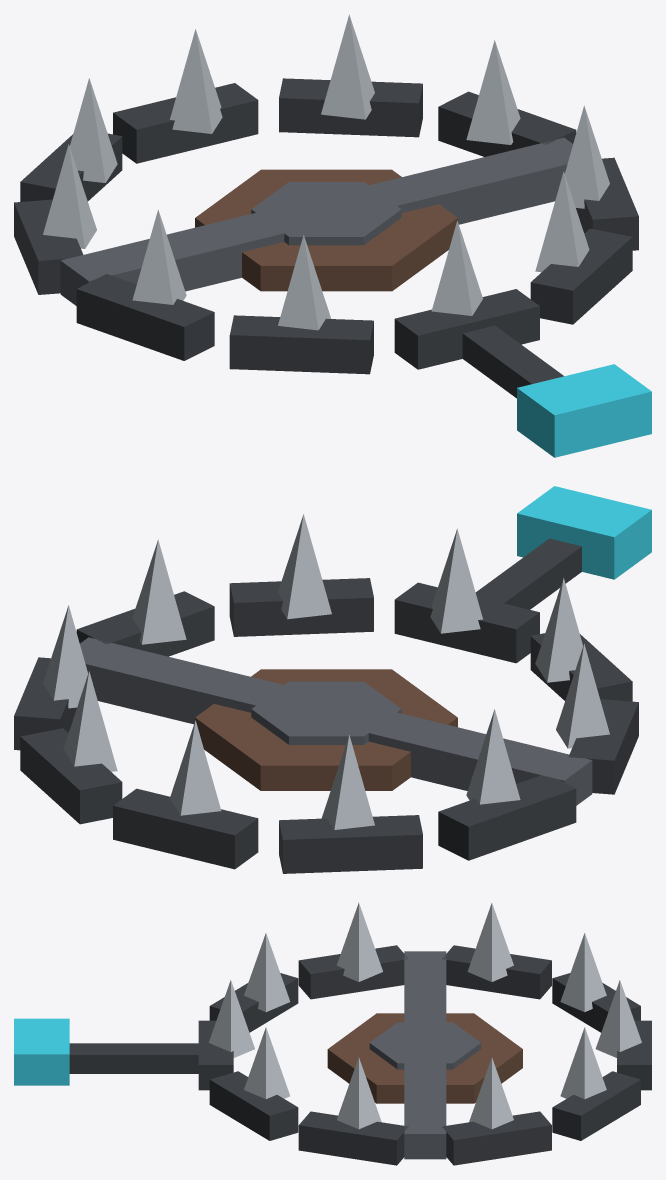
File: PR_Snare.fbx
3 renders of one model, top to bottom at view 1: azimuth 30°, elevation 25°; view 2: azimuth 150°, elevation 25°; view 3: azimuth 270°, elevation 25°, orthographic. The views are drawn at different scales.
Visible parts, largest first — view 1: PR_Snare_Mesh; view 2: PR_Snare_Mesh; view 3: PR_Snare_Mesh.
Part boxes in pixels (<box>): PR_Snare_Mesh: <box>14,14,651,457</box>; PR_Snare_Mesh: <box>14,486,651,873</box>; PR_Snare_Mesh: <box>14,902,651,1165</box>.
Bounding box in the file's own units: 0.6621 × 0.915 × 0.14.
